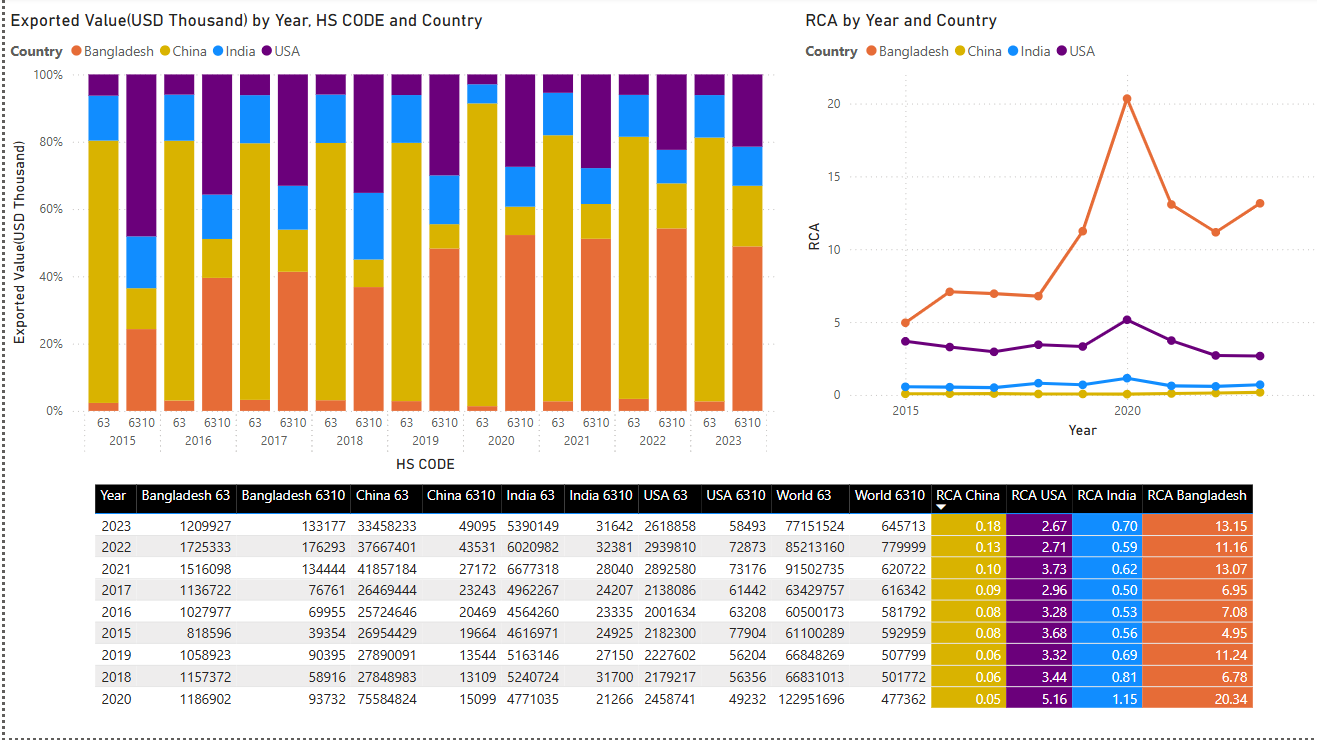

This screenshot's page, from the dashboard's own definition file:
{"tool":"powerbi","page":{"name":"RCA 6310","canvas":[1280,720],"ordinal":2},"visuals":[{"type":"hundredPercentStackedColumnChart","title":"Exported Value(USD Thousand) by Year, HS CODE and Country","fields":{"Series":["Export Data Aggregated.Country"],"Category":["Export Data Aggregated.Year","Export Data Aggregated.HS CODE"],"Y":["Sum(Export Data Aggregated.Exported Value(USD Thousand))"]},"box":[0,13.3,755,453.3],"z":0},{"type":"lineChart","title":"RCA by Year and Country","fields":{"Series":["RCA.Country"],"Category":["RCA.Year"],"Y":["Sum(RCA.RCA)"]},"box":[771.4,13.1,508,420.7],"z":1000},{"type":"tableEx","fields":{"Values":["Export Data.Year","Export Data.Bangladesh 63","Export Data.Bangladesh 6310","Export Data.China 63","Export Data.China 6310","Export Data.India 63","Export Data.India 6310","Export Data.USA 63","Export Data.USA 6310","Export Data.World 63","Export Data.World 6310","Export Data.RCA China"]},"box":[82,468,1162,252],"z":2000}]}

Visuals, with their boxes in screenshot pixels (x1, y1, x2, y2), scaled from the page's 1280x720 canvas onto the 1317x742 screenshot:
"Exported Value(USD Thousand) by Year, HS CODE and Country" hundredPercentStackedColumnChart: <bbox>0, 14, 777, 481</bbox>
"RCA by Year and Country" lineChart: <bbox>794, 14, 1316, 447</bbox>
tableEx - Export Data.Year x Export Data.Bangladesh 63: <bbox>84, 482, 1280, 741</bbox>
